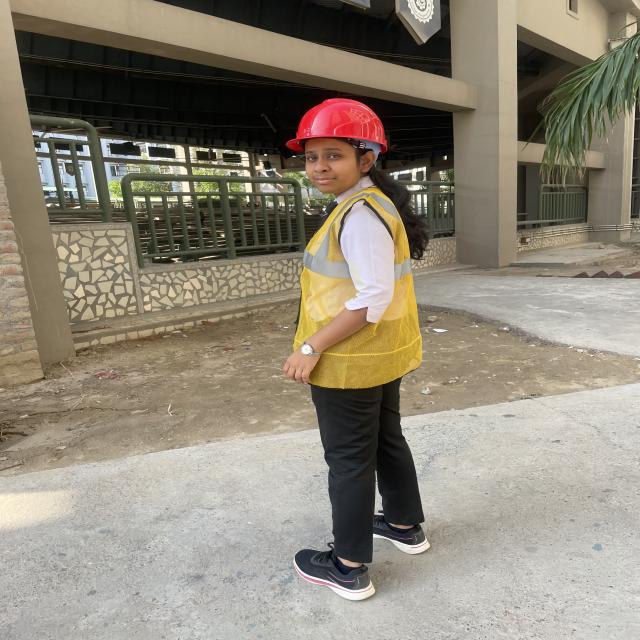safe: (284, 99, 430, 600)
